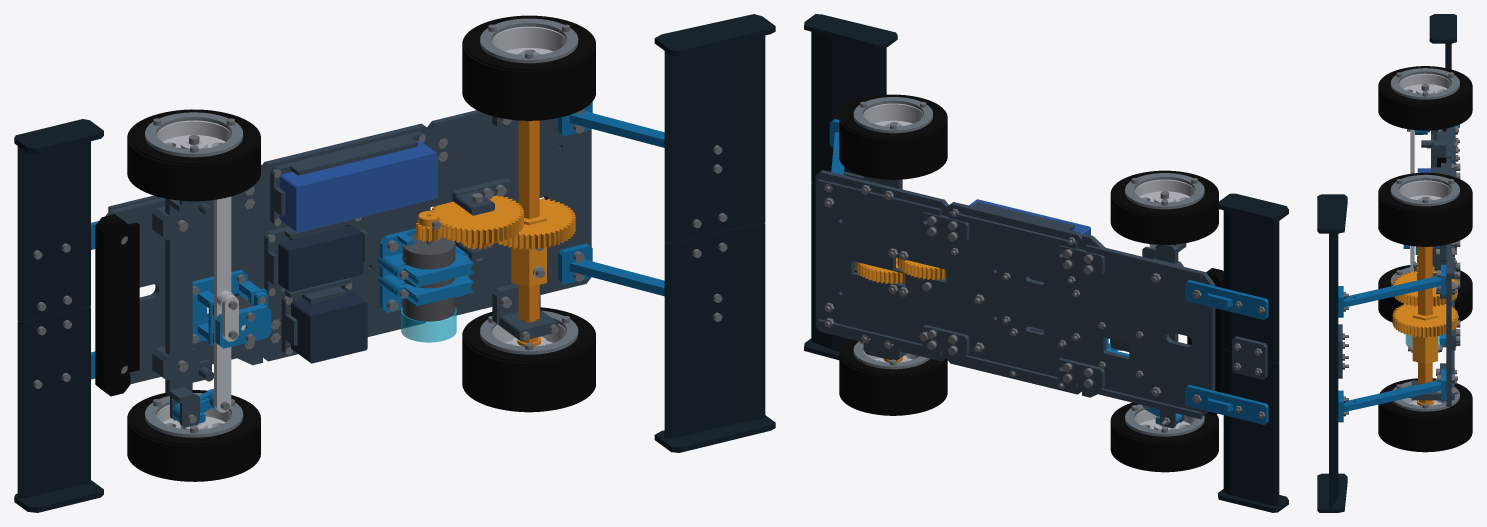
File: rc-car-open-chassis.glb
3 renders of one model, left to right at view 1: azimuth 30°, elevation 25°; view 2: azimuth 150°, elevation 25°; view 3: azimuth 270°, elevation 25°, orthographic. The views are drawn at different scales.
Parts seen in each view (by area): view 1: 45_Rear_Wing_Right-1, 44_Rear_Wing_Left-1, 49_Front_Wing_Right-1, 48_Front_Wing_Left-1, 03_Chassis_Rear-1, 01_Chassis_Front-1, 11_Tyre_Rear_TPU-2, 11_Tyre_Rear_TPU-1, REF_Battery_3S-1, 05_Front_Axle_Beam-1, 39_Front_Bumper_TPU-1, 10_Tyre_Front_TPU-2 (+28 smaller); view 2: 02_Chassis_Centre-1, 03_Chassis_Rear-1, 01_Chassis_Front-1, 44_Rear_Wing_Left-1, 48_Front_Wing_Left-1, 49_Front_Wing_Right-1, 11_Tyre_Rear_TPU-2, 11_Tyre_Rear_TPU-1, 10_Tyre_Front_TPU-2, 10_Tyre_Front_TPU-1, 50_Front_Wing_Stay-1, 50_Front_Wing_Stay-2 (+18 smaller); view 3: 11_Tyre_Rear_TPU-2, 11_Tyre_Rear_TPU-1, 10_Tyre_Front_TPU-2, 44_Rear_Wing_Left-1, 21_Locked_Rear_Gear_48T-1, 45_Rear_Wing_Right-1, 46_Rear_Wing_Pylon-2, 46_Rear_Wing_Pylon-1, 10_Tyre_Front_TPU-1, 03_Chassis_Rear-1, 48_Front_Wing_Left-1, 43_Tyre_Beadlock_Ring-6 (+11 smaller).
Boxes of the visible parts, x1,y1,x2,y2 form: 45_Rear_Wing_Right-1: [654, 223, 775, 452]; 44_Rear_Wing_Left-1: [654, 14, 775, 242]; 49_Front_Wing_Right-1: [14, 307, 103, 512]; 48_Front_Wing_Left-1: [14, 119, 103, 321]; 03_Chassis_Rear-1: [427, 110, 591, 316]; 01_Chassis_Front-1: [105, 164, 262, 384]; 11_Tyre_Rear_TPU-2: [462, 15, 595, 120]; 11_Tyre_Rear_TPU-1: [462, 307, 595, 412]; REF_Battery_3S-1: [279, 140, 437, 232]; 05_Front_Axle_Beam-1: [152, 198, 213, 427]; 39_Front_Bumper_TPU-1: [95, 214, 139, 396]; 10_Tyre_Front_TPU-2: [127, 109, 260, 201]; 02_Chassis_Centre-1: [946, 202, 1082, 394]; 03_Chassis_Rear-1: [815, 170, 948, 361]; 01_Chassis_Front-1: [1082, 234, 1215, 419]; 44_Rear_Wing_Left-1: [804, 14, 897, 183]; 48_Front_Wing_Left-1: [1218, 193, 1288, 362]; 49_Front_Wing_Right-1: [1218, 349, 1288, 512]; 11_Tyre_Rear_TPU-2: [839, 94, 947, 179]; 11_Tyre_Rear_TPU-1: [839, 339, 947, 415]; 10_Tyre_Front_TPU-2: [1110, 170, 1218, 244]; 10_Tyre_Front_TPU-1: [1110, 402, 1218, 472]; 50_Front_Wing_Stay-1: [1185, 385, 1268, 424]; 50_Front_Wing_Stay-2: [1185, 280, 1268, 319]; 11_Tyre_Rear_TPU-2: [1378, 172, 1472, 246]; 11_Tyre_Rear_TPU-1: [1378, 378, 1472, 452]; 10_Tyre_Front_TPU-2: [1378, 66, 1472, 130]; 44_Rear_Wing_Left-1: [1317, 194, 1347, 369]; 21_Locked_Rear_Gear_48T-1: [1392, 304, 1457, 363]; 45_Rear_Wing_Right-1: [1317, 360, 1347, 512]; 46_Rear_Wing_Pylon-2: [1338, 264, 1446, 317]; 46_Rear_Wing_Pylon-1: [1338, 369, 1446, 422]; 10_Tyre_Front_TPU-1: [1378, 265, 1472, 322]; 03_Chassis_Rear-1: [1446, 243, 1454, 406]; 48_Front_Wing_Left-1: [1429, 14, 1456, 69]; 43_Tyre_Beadlock_Ring-6: [1390, 68, 1459, 99].
Size of the model in its own units: 0.517 by 0.298 by 0.148.
